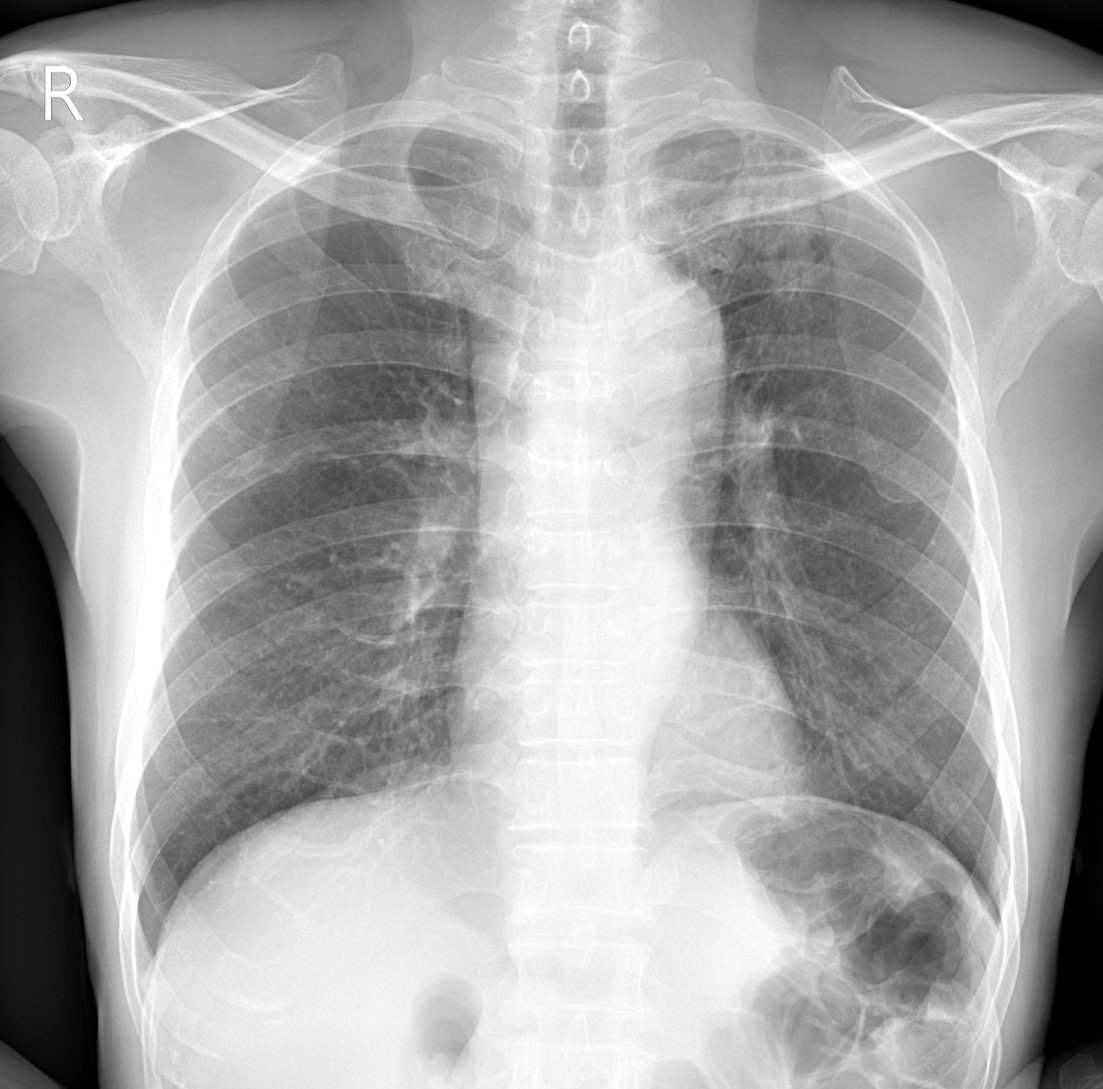Aortic enlargement: (582, 267, 727, 432)
